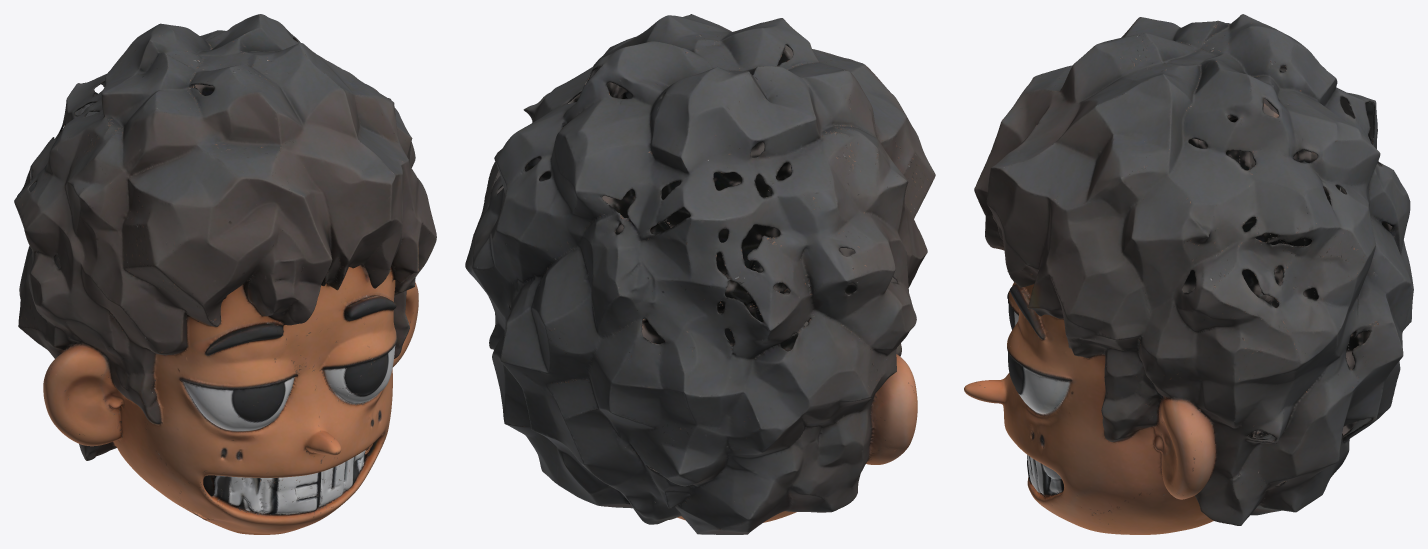
Rendered from newt-character.glb.
The picture shows the model from 3 angles, left to right: view 1: azimuth 30°, elevation 25°; view 2: azimuth 150°, elevation 25°; view 3: azimuth 270°, elevation 25°; orthographic projection. The views are drawn at different scales.
Bounding box in the file's own units: 1.76 × 2 × 1.72.
Materials: 1 (1 with a texture image).
